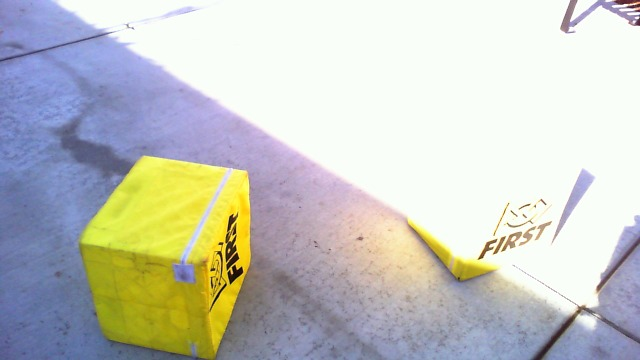cube: (78, 154, 268, 359), (406, 154, 569, 280)
